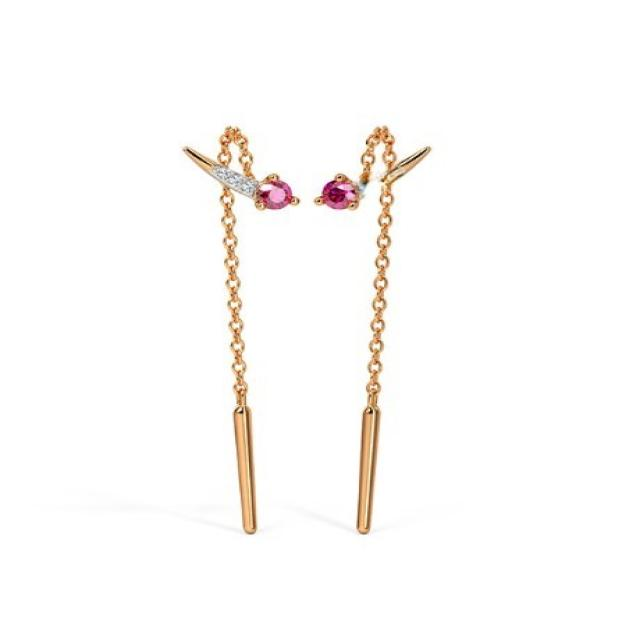missing gem: (398, 161, 408, 172), (388, 169, 399, 178), (408, 156, 419, 164)
